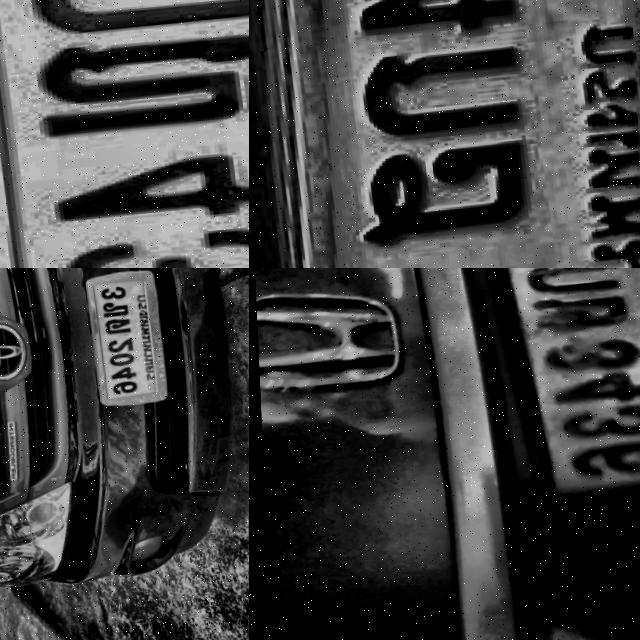license-plate: (249, 0, 640, 268), (0, 0, 249, 268), (494, 268, 640, 497), (81, 269, 171, 409)
